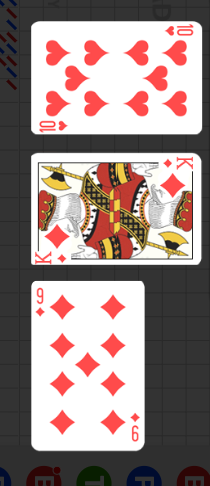10H: (38, 119, 70, 133)
9D: (34, 286, 46, 319), (129, 411, 141, 443)
